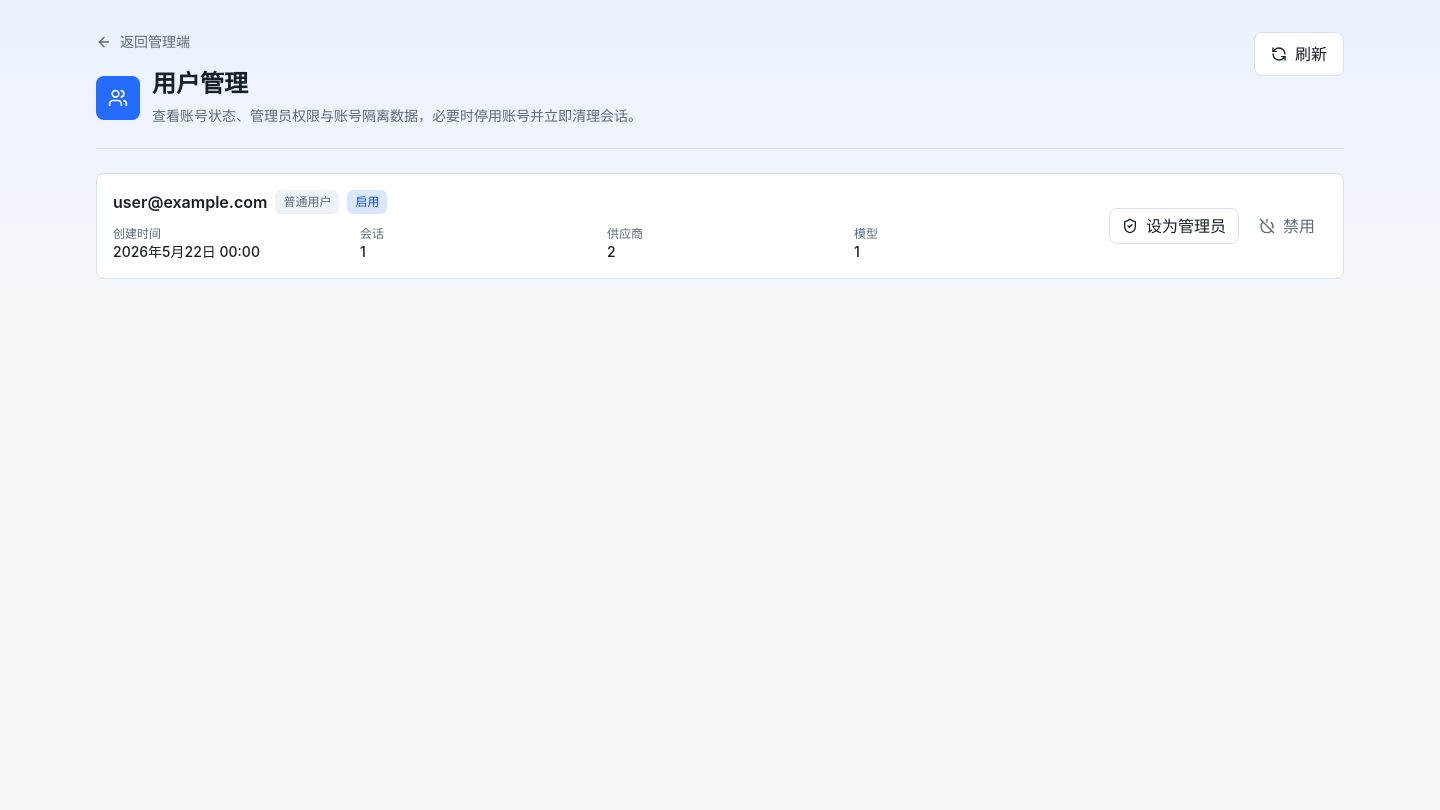
Test case: AdminUsersManagement › confirms disabling a user with a styled dialog
Click the button "禁用" at (1287, 226), box [1247, 208, 1327, 244]
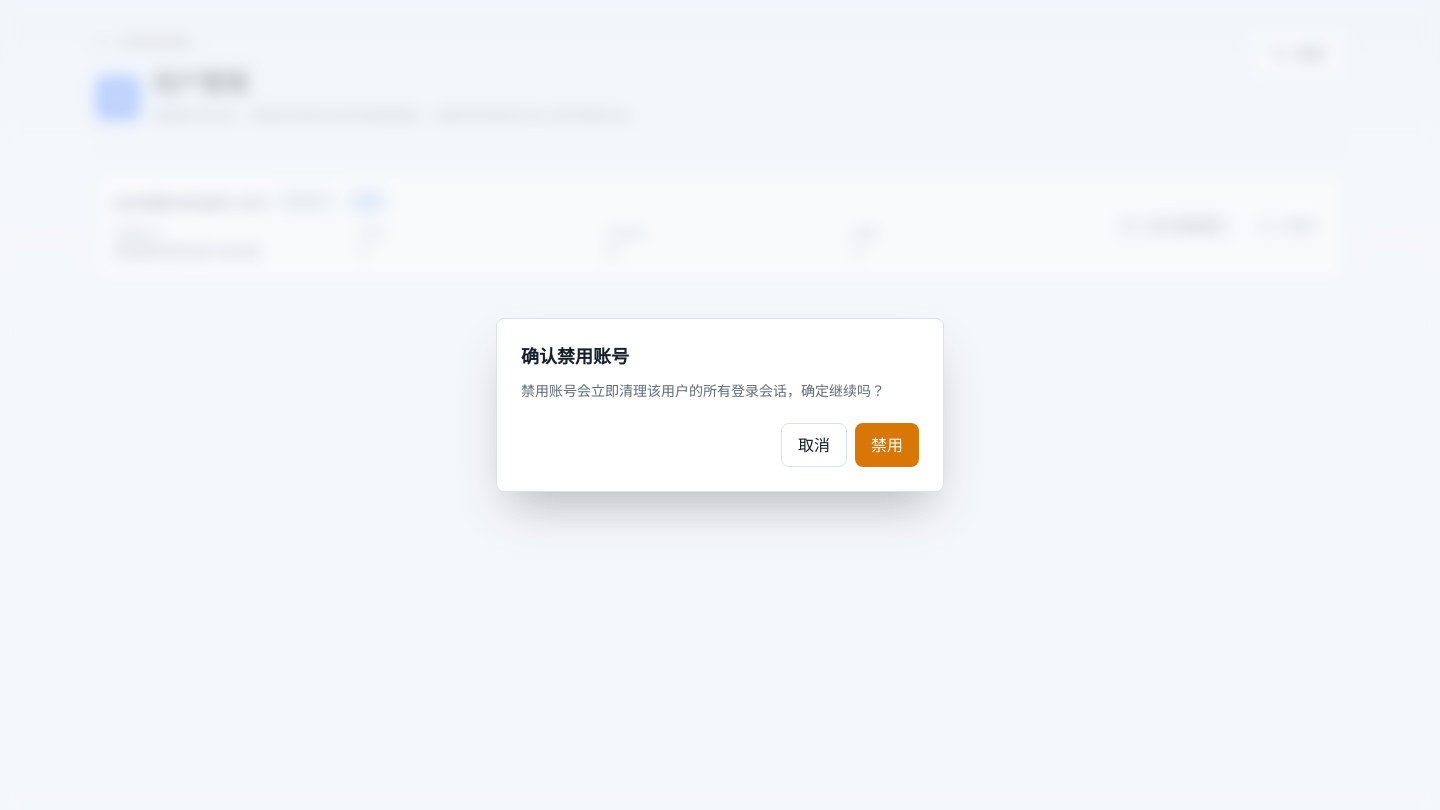
Result: the text "禁用账号会立即清理该用户的所有登录会话，确定继续吗？" is shown at [521, 379, 919, 403]
Click the button "禁用" at (887, 445), box [855, 423, 919, 467]
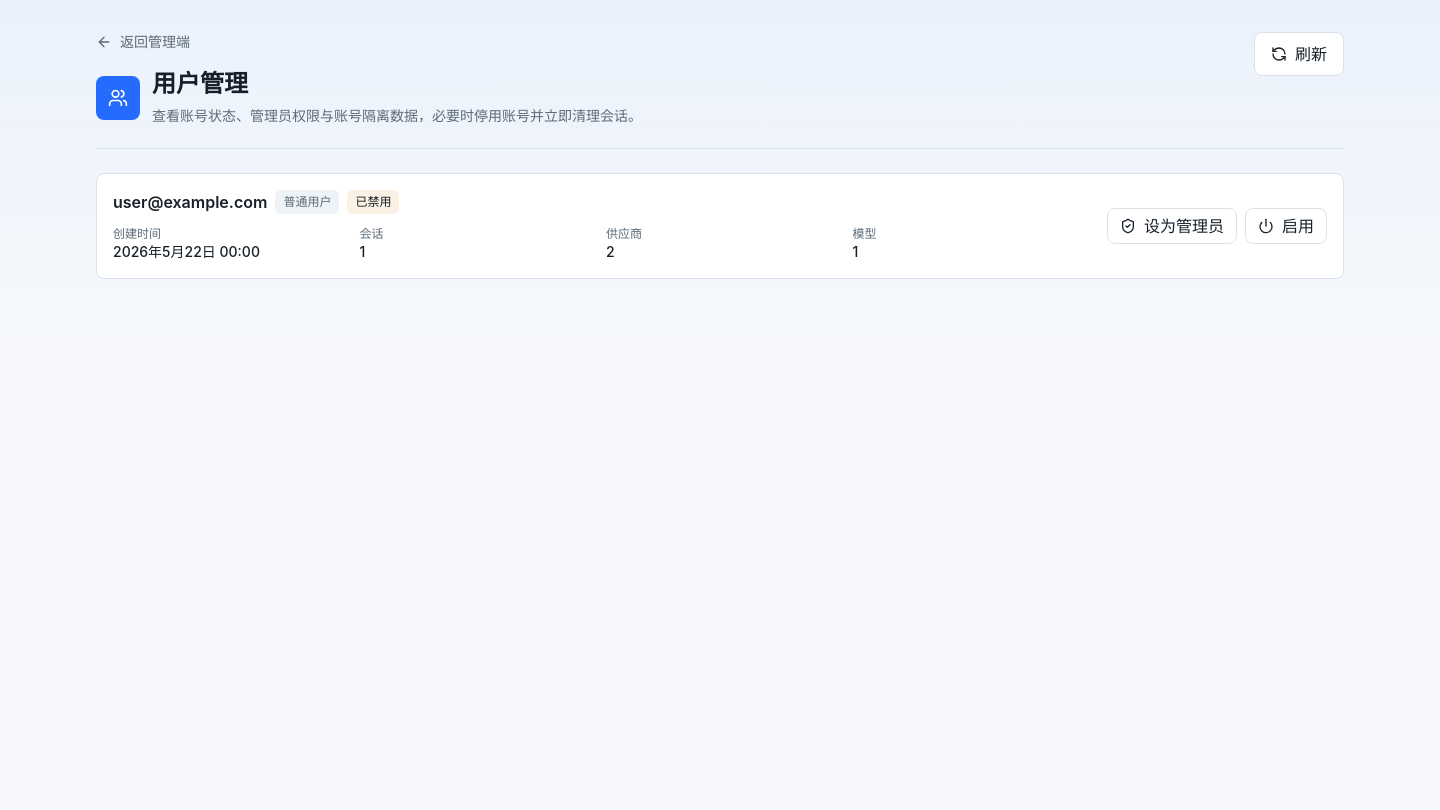
Result: the text "已禁用" is shown at [347, 190, 399, 214]
